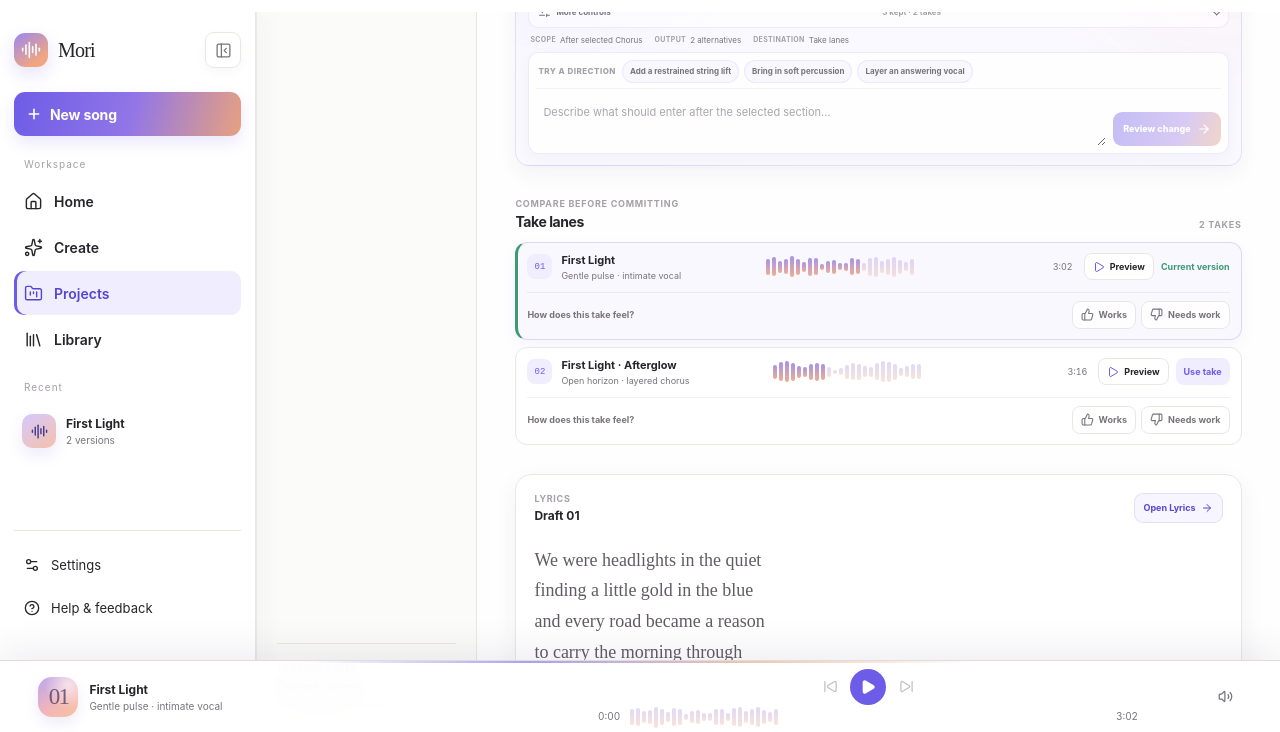
Test: Mori studio page › keeps Current unchanged and safely reuses the command identity on retry
(page scrolled)
Click the button with aria-label "Use First Light · Afterglow as current" at (1203, 372), box 1176,358 -> 1230,385
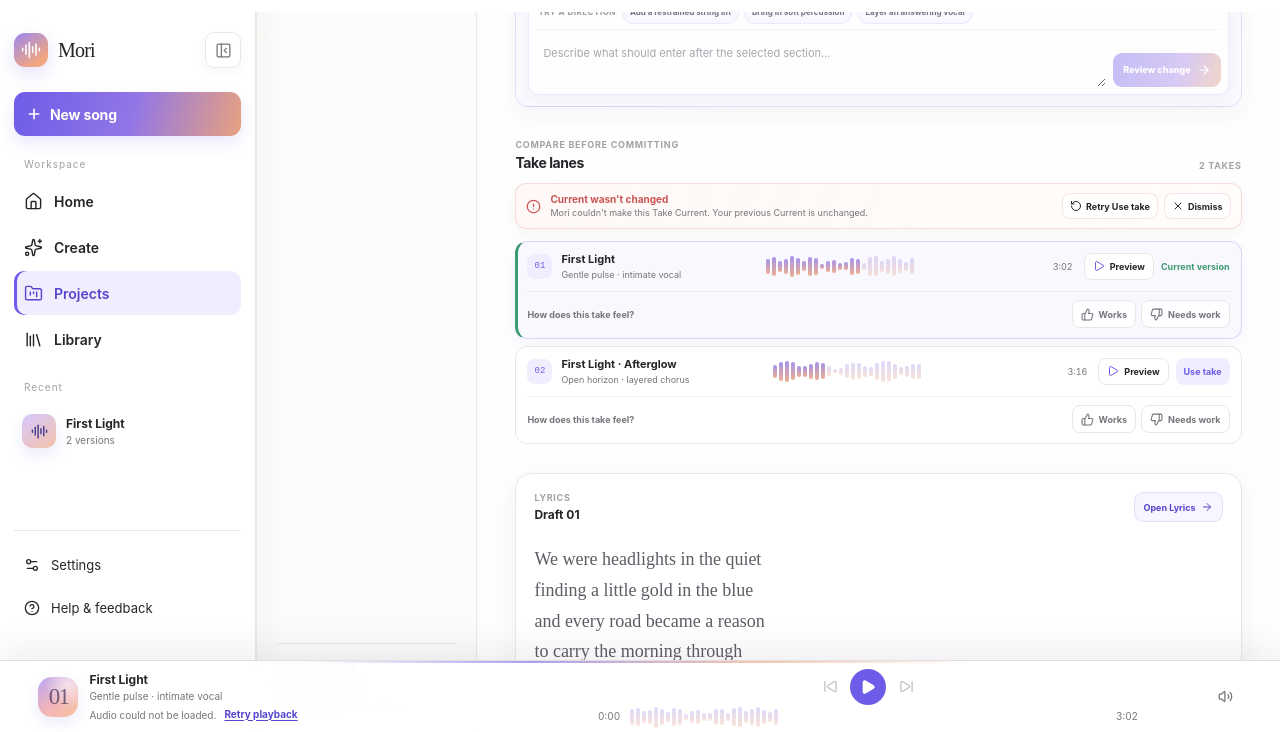
Expected: the element named "Take 1: First Light" shows "Current version", 1161,261 -> 1230,272
Now the message that starts with "Current wasn't changed" shows "Your previous Current is unchanged.", box 550,207 -> 868,218
Click the button "Retry Use take" at (1110, 206), box 1062,193 -> 1158,219
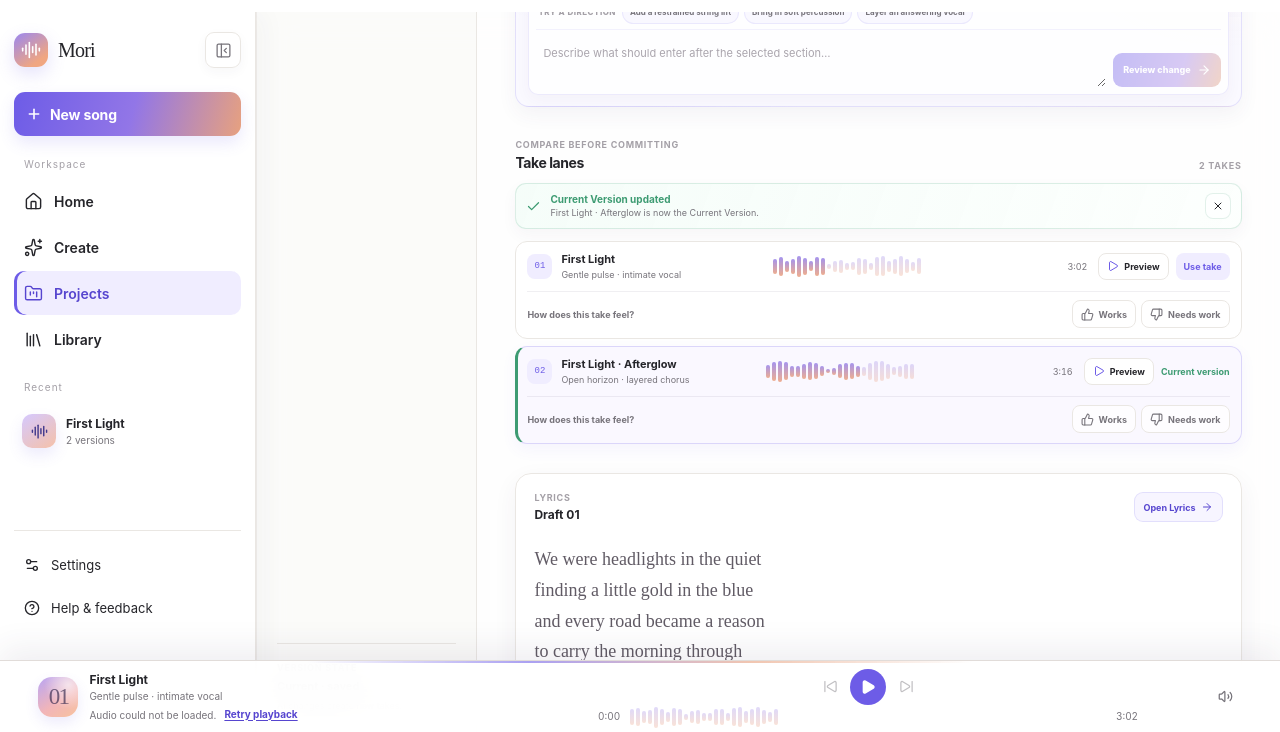
Now the element named "Take 2: First Light · Afterglow" shows "Current version", box 1161,366 -> 1230,377
